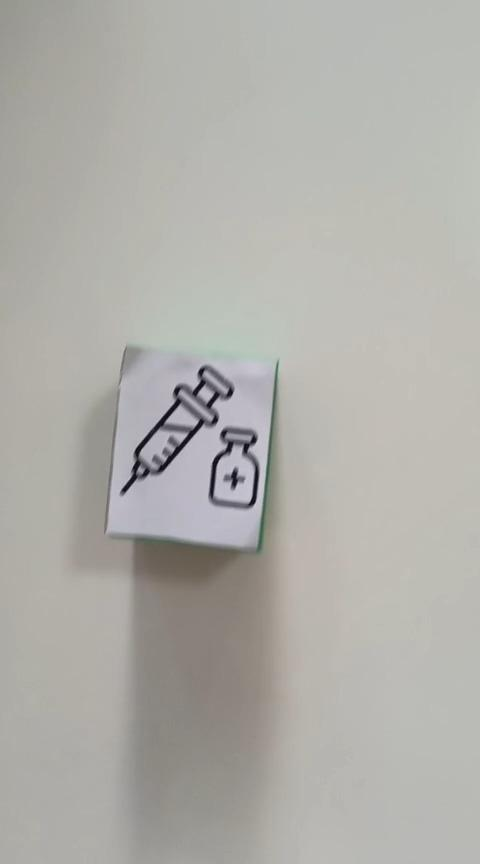antiseptic cream: (103, 342, 279, 553)
